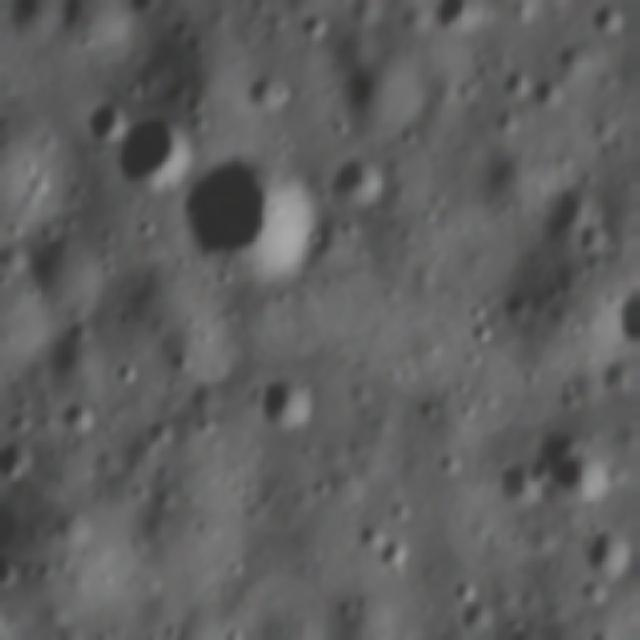crater: (185, 151, 330, 287), (34, 232, 118, 332), (29, 320, 117, 411), (337, 59, 425, 132), (122, 112, 201, 192), (546, 430, 611, 504), (263, 370, 326, 436), (584, 521, 640, 581), (335, 154, 394, 208), (547, 184, 602, 239), (245, 67, 303, 115), (1, 433, 52, 484), (502, 461, 541, 513), (428, 1, 486, 32), (98, 99, 136, 143), (587, 2, 631, 40), (578, 220, 619, 258), (497, 66, 540, 102), (383, 536, 422, 575), (64, 400, 104, 438), (580, 575, 618, 610), (356, 516, 387, 553), (537, 72, 566, 111), (470, 321, 501, 354), (561, 44, 588, 81), (499, 104, 526, 138), (454, 580, 486, 608), (137, 212, 161, 242)
